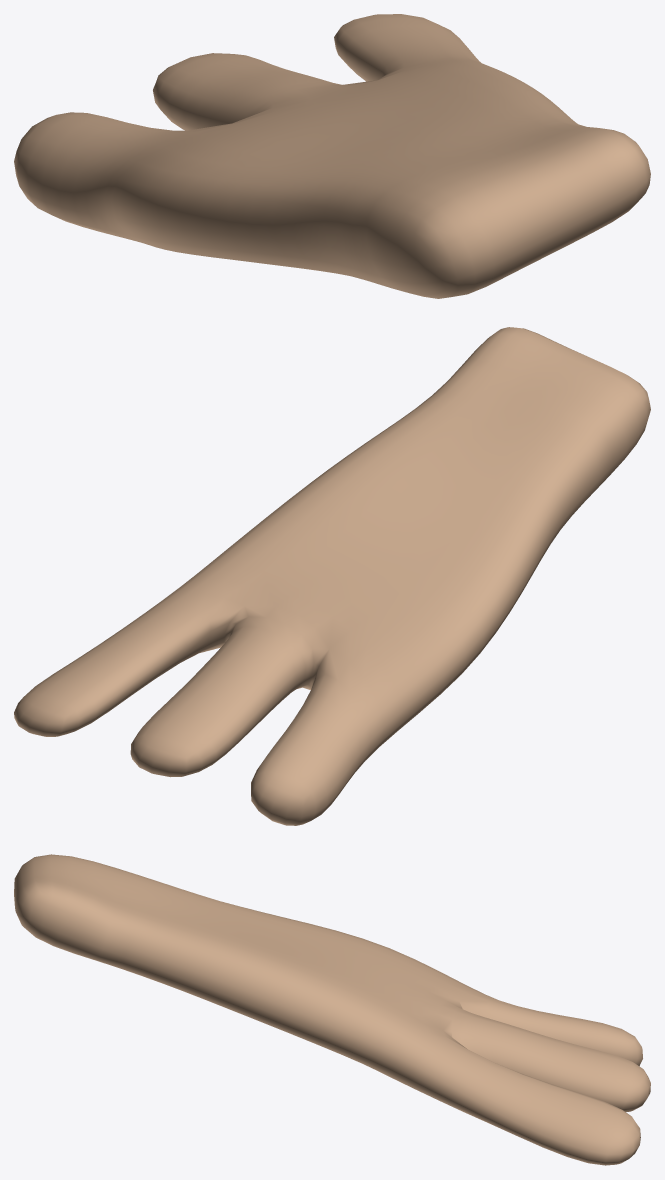
The picture shows the model from 3 angles, top to bottom: view 1: azimuth 30°, elevation 25°; view 2: azimuth 150°, elevation 25°; view 3: azimuth 270°, elevation 25°; orthographic projection. The views are drawn at different scales.
Visible parts, largest first — view 1: 左侧指伸肌与示指伸肌腱鞘; view 2: 左侧指伸肌与示指伸肌腱鞘; view 3: 左侧指伸肌与示指伸肌腱鞘.
Part boxes in pixels (x1=…): 左侧指伸肌与示指伸肌腱鞘: x1=14, y1=14, x2=650, y2=298; 左侧指伸肌与示指伸肌腱鞘: x1=14, y1=327, x2=650, y2=825; 左侧指伸肌与示指伸肌腱鞘: x1=14, y1=854, x2=650, y2=1165.
Bounding box in the file's own units: 0.0402 × 0.0284 × 0.0714.
